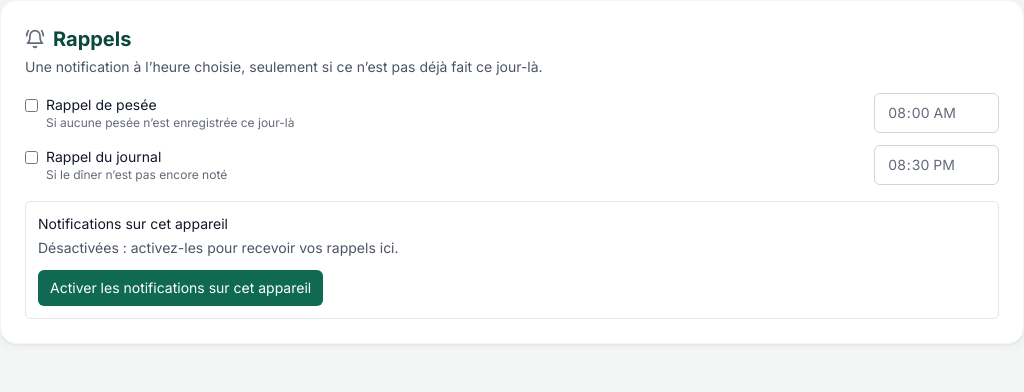
it: RemindersSection › signale que les rappels n'ont pas pu être programmés
Click the button "Activer les notifications sur cet appareil" at (181, 288), box [38,270,323,306]
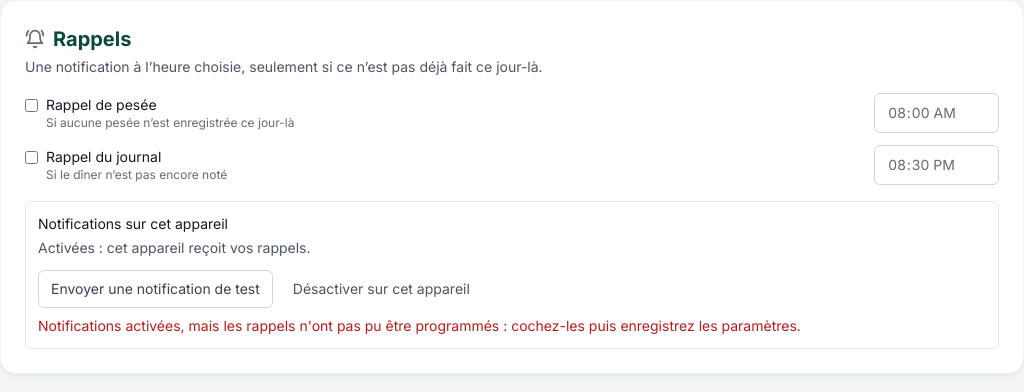
Check: the message shows "les rappels n'ont pas pu être programmés", box [38,317,801,334]
